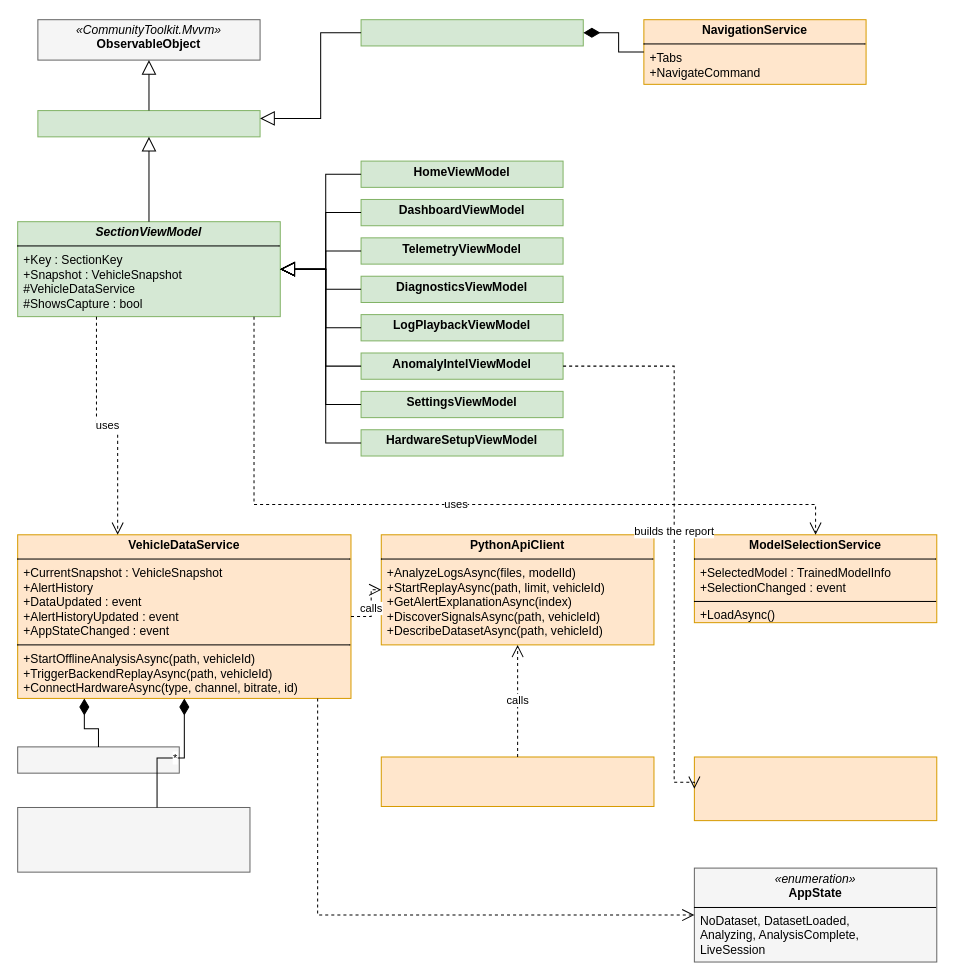
Some shapes in this 954 by 980 pixel diagram are drawn without their labels. Each missing label, with the centre of its shape:
"CanLogImportService +ParseFileAsync(path) : CanImportResult" belongs at point (517, 781).
"MainWindowViewModel" belongs at point (471, 32).
"RuntimeAlertEvent +CanId, +Severity, +Score +Reason, +BackendIndex" belongs at point (133, 839).
"VehicleSnapshot" belongs at point (98, 759).
"ViewModelBase" belongs at point (148, 123).
"«static» PdfReportBuilder +Build(alerts, path, context)" belongs at point (815, 788).
